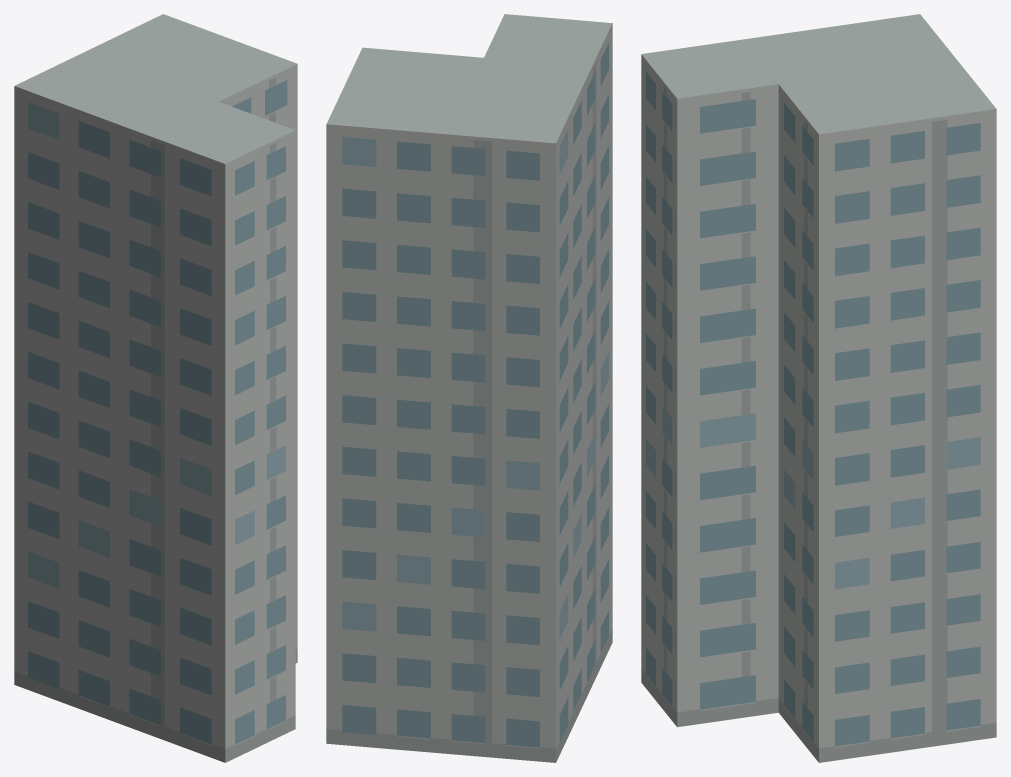
Rendered from residential-a2e7d2d7-5651-4e40-a92c-e9adb7ba4186.glb.
3 views of the same model, side by side, from view 1: azimuth 30°, elevation 25°; view 2: azimuth 150°, elevation 25°; view 3: azimuth 270°, elevation 25° (orthographic). The views are drawn at different scales.
Visible parts, largest first — view 1: residential-a2e7d2d7-5651-4e40-a92c-e9adb7ba4186.tmp; view 2: residential-a2e7d2d7-5651-4e40-a92c-e9adb7ba4186.tmp; view 3: residential-a2e7d2d7-5651-4e40-a92c-e9adb7ba4186.tmp.
Part boxes in pixels (x1,y1,x2,y2): residential-a2e7d2d7-5651-4e40-a92c-e9adb7ba4186.tmp: [14, 14, 297, 762]; residential-a2e7d2d7-5651-4e40-a92c-e9adb7ba4186.tmp: [326, 14, 612, 762]; residential-a2e7d2d7-5651-4e40-a92c-e9adb7ba4186.tmp: [641, 14, 996, 762].
Size of the model in its own units: 17.69 by 43 by 22.04.
